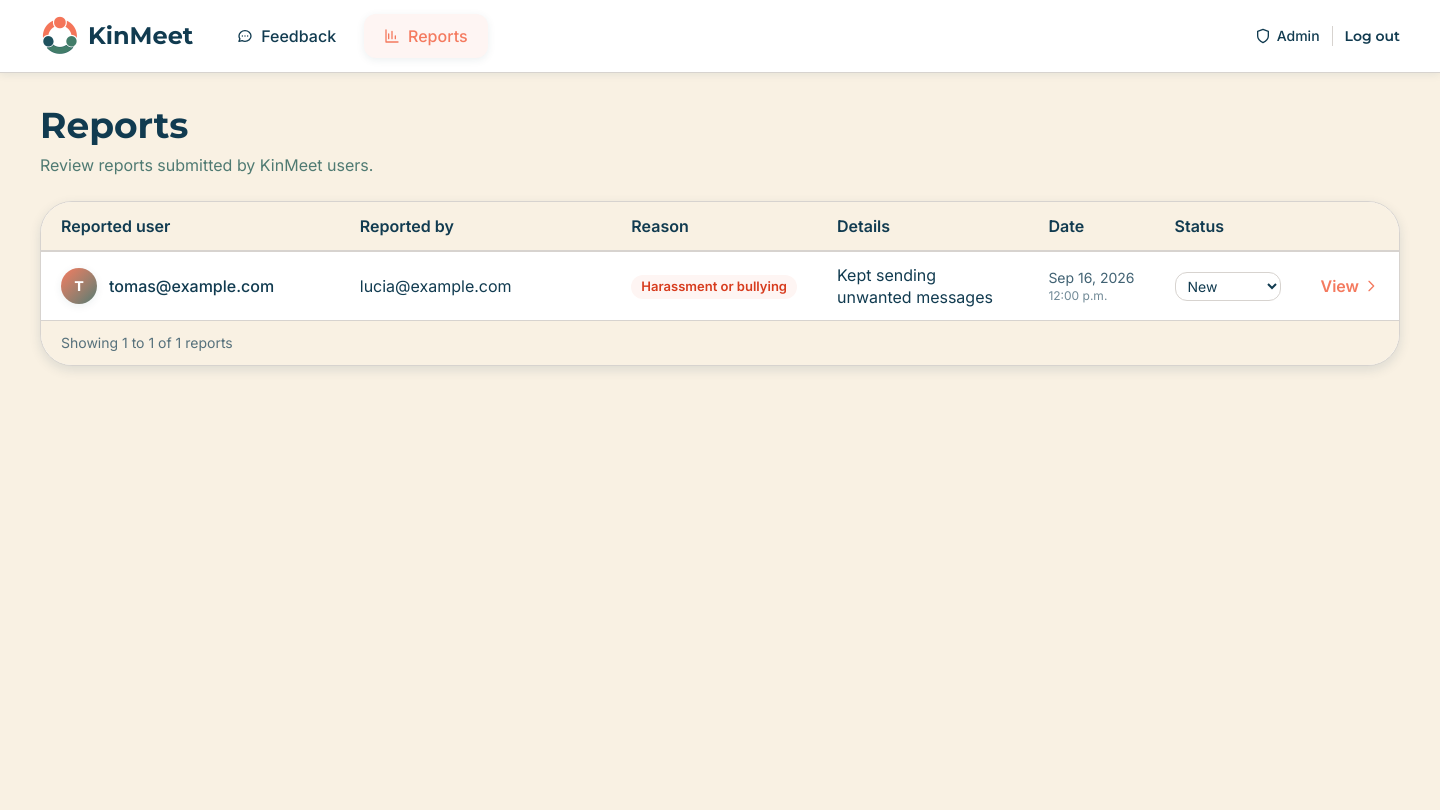
Scenario: AdminPage — reports › drops back to login if the session expires during a status update
The image size is (1440, 810).
Select "Reviewing" in the dropdown. click: x=1228, y=286
box: [1174,272,1280,300]
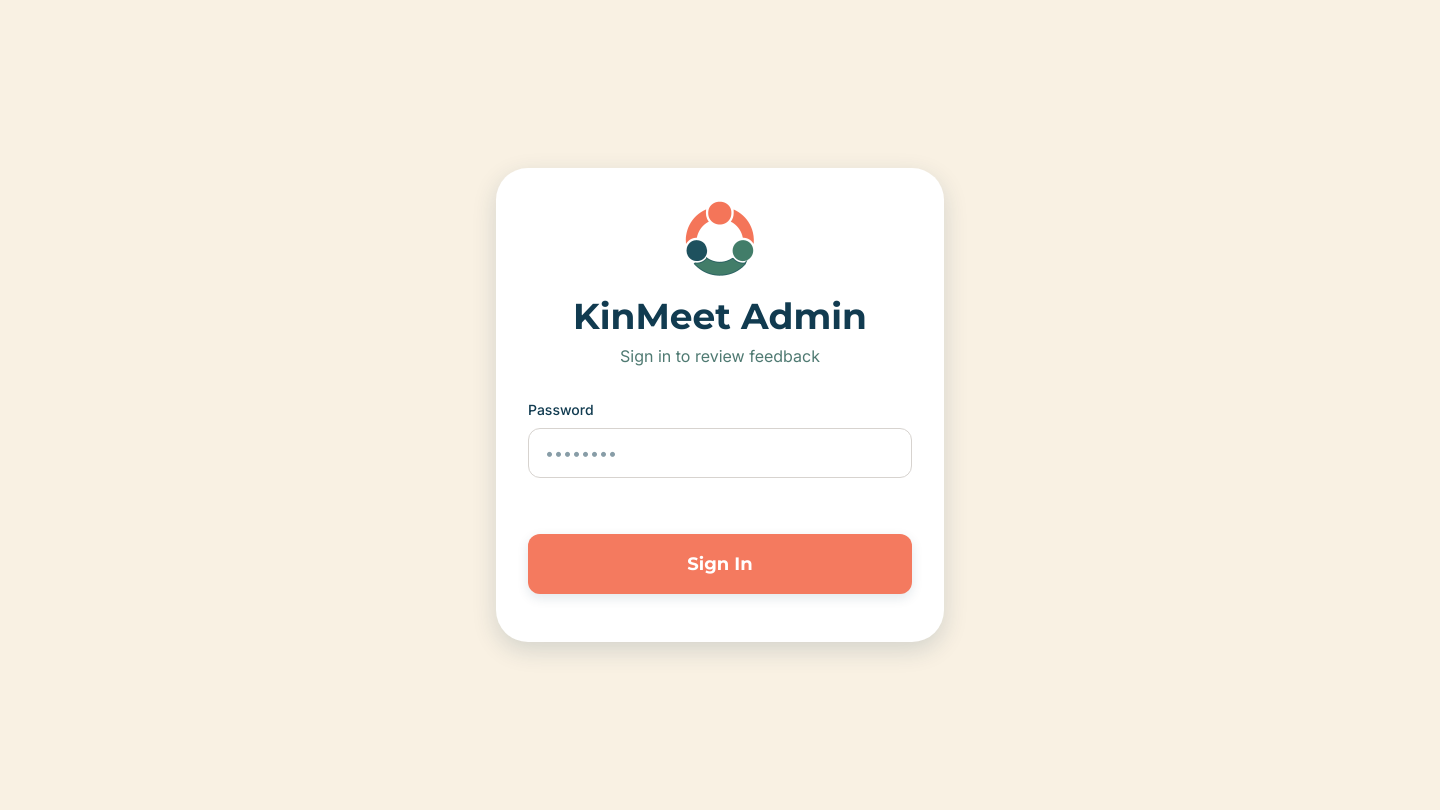
Check: the password field labelled "Password" is shown, box [528,428,912,478]
